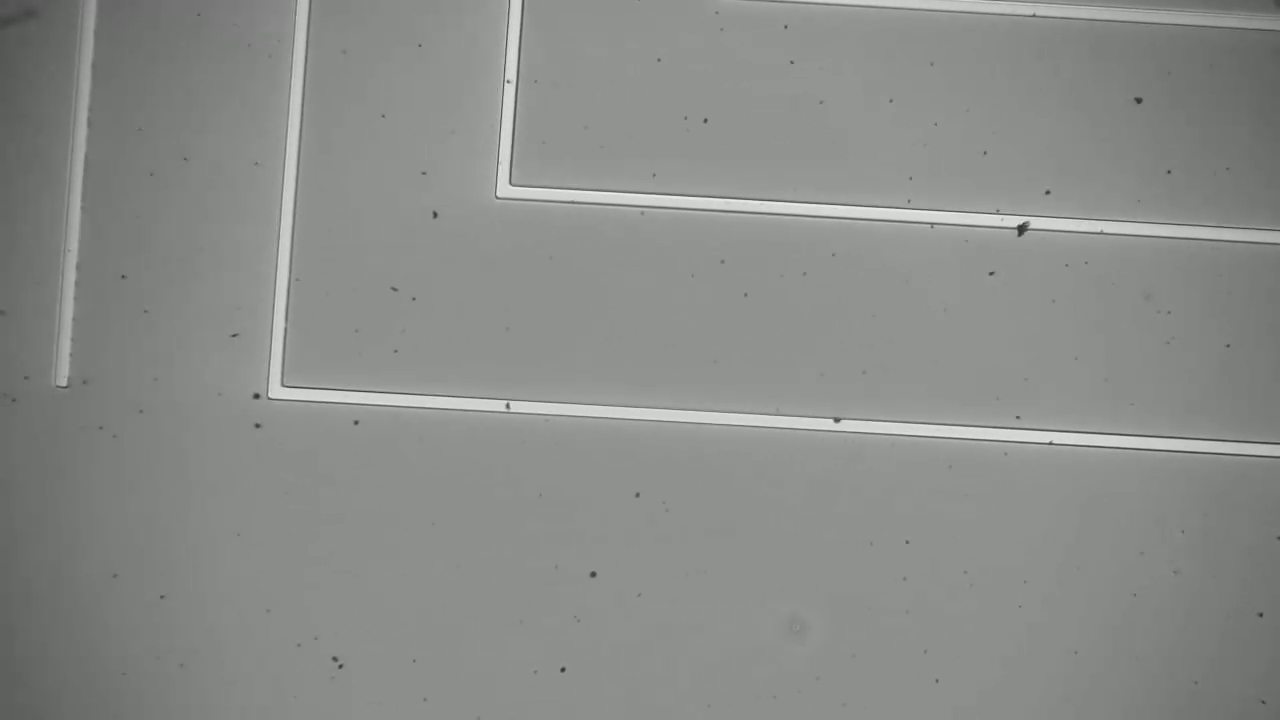stains_enbedded: (1013, 211, 1035, 240)
